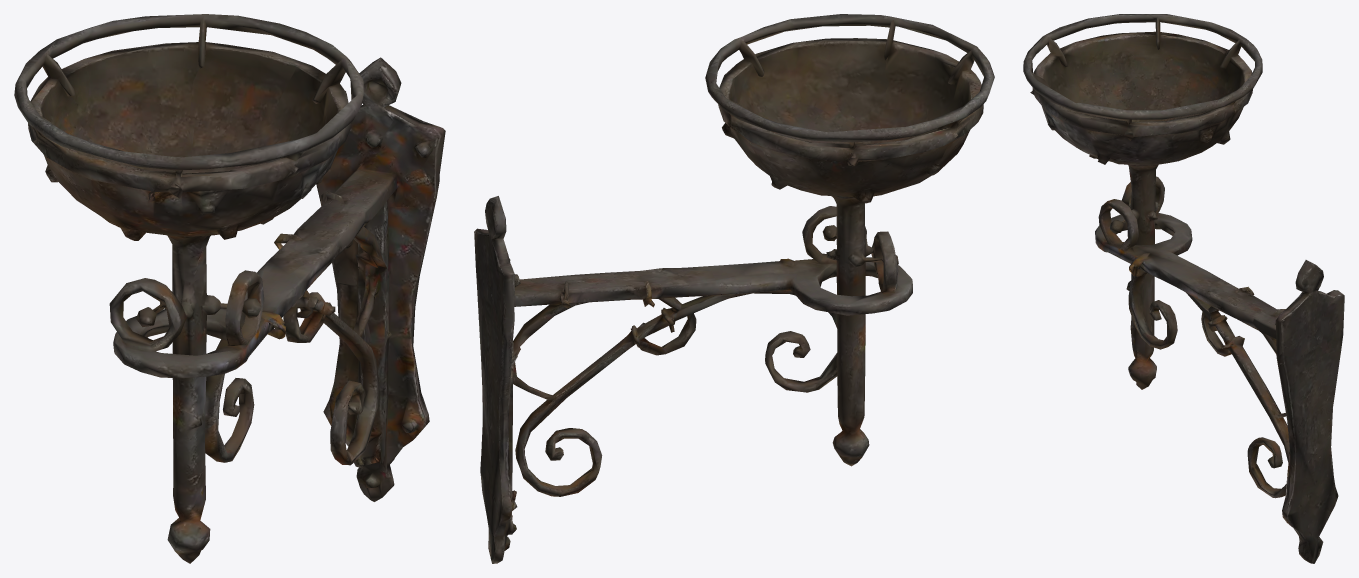
File: torch.glb
The picture shows the model from 3 angles, left to right: view 1: azimuth 30°, elevation 25°; view 2: azimuth 150°, elevation 25°; view 3: azimuth 270°, elevation 25°; orthographic projection. The views are drawn at different scales.
Parts seen in each view (by area): view 1: tripo_node_157f4fdc-1686-43cd-b3e3-412053b49d9c; view 2: tripo_node_157f4fdc-1686-43cd-b3e3-412053b49d9c; view 3: tripo_node_157f4fdc-1686-43cd-b3e3-412053b49d9c.
Part boxes in pixels (x1,y1,x2,y2): tripo_node_157f4fdc-1686-43cd-b3e3-412053b49d9c: (14,14,445,563); tripo_node_157f4fdc-1686-43cd-b3e3-412053b49d9c: (474,14,994,563); tripo_node_157f4fdc-1686-43cd-b3e3-412053b49d9c: (1023,14,1344,563).
Size of the model in its own units: 0.8944 by 0.9803 by 0.7166.
1 material, 1 textured.
